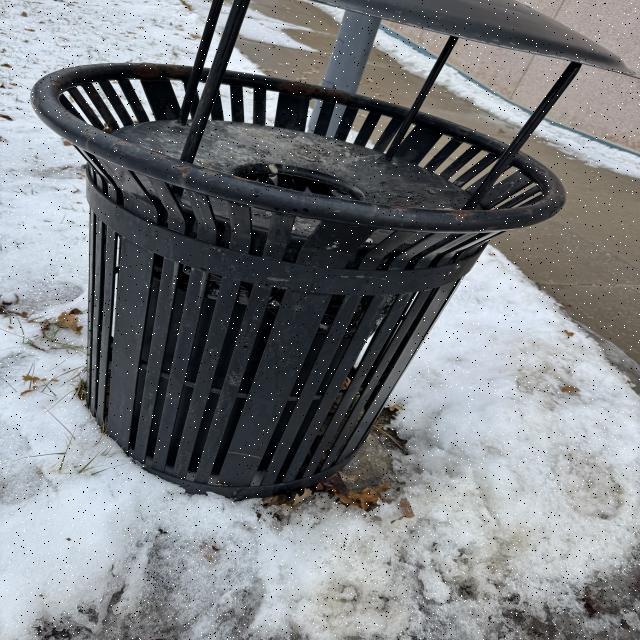Dustbin: (33, 0, 637, 503)
